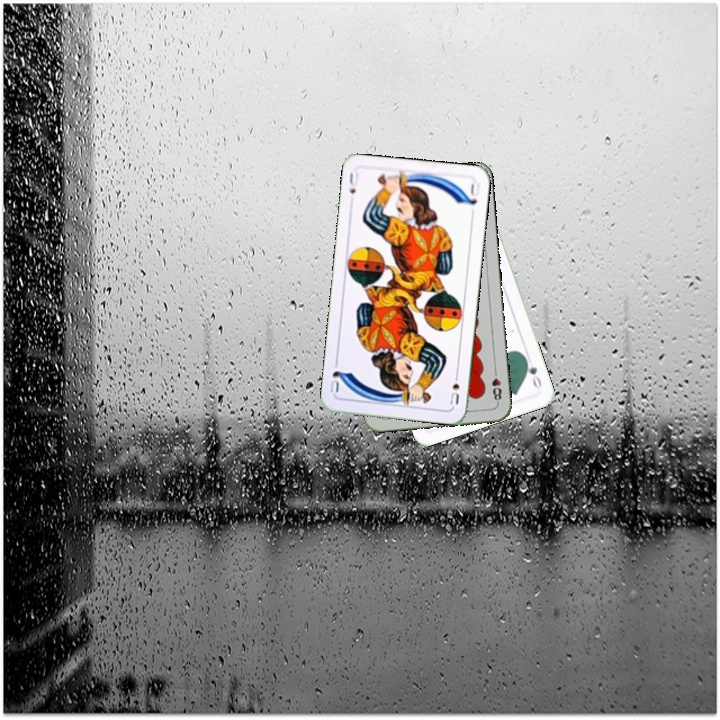GO: (521, 354, 544, 391)
H8: (488, 365, 504, 406)
SU: (446, 368, 462, 408), (345, 168, 361, 197)
